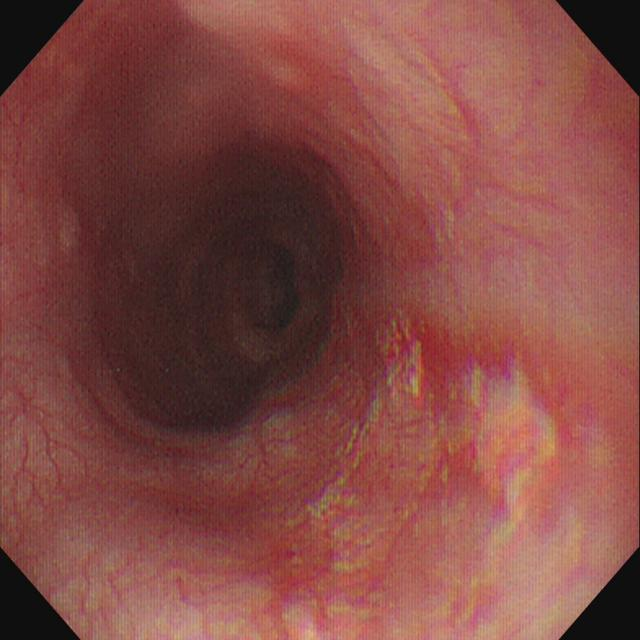E: (242, 242, 297, 333)
U: (376, 315, 424, 394)
